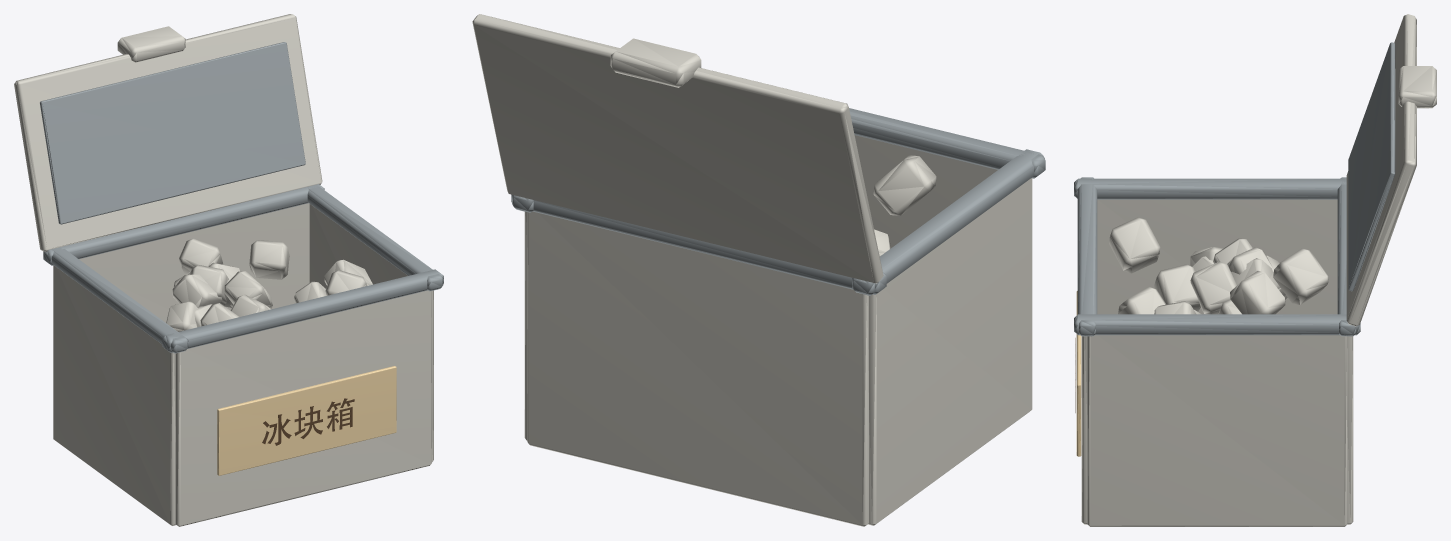
File: ice_bin.fbx
The picture shows the model from 3 angles, left to right: view 1: azimuth 30°, elevation 25°; view 2: azimuth 150°, elevation 25°; view 3: azimuth 270°, elevation 25°; orthographic projection. The views are drawn at different scales.
Parts seen in each view (by area): view 1: ice_bin; view 2: ice_bin; view 3: ice_bin.
Boxes of the visible parts, <box> form: ice_bin: <box>14,14,443,526</box>; ice_bin: <box>472,14,1045,526</box>; ice_bin: <box>1074,14,1436,526</box>.
Size of the model in its own units: 46 by 54.8 by 47.45.
